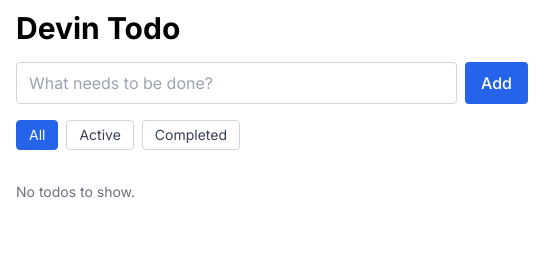
Test: Todo app › filters todos
Type "active task" into the field named "New todo" at (236, 83), box [16, 62, 457, 104]
Click the button "Add" at (496, 83), box [465, 62, 528, 104]
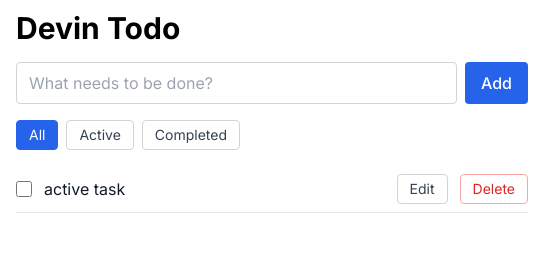
Type "done task" into the field named "New todo" at (236, 83), box [16, 62, 457, 104]
Click the button "Add" at (496, 83), box [465, 62, 528, 104]
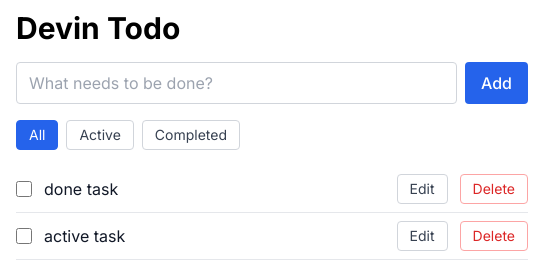
Click the checkbox named "Toggle done task" at (24, 189), box [16, 181, 32, 197]
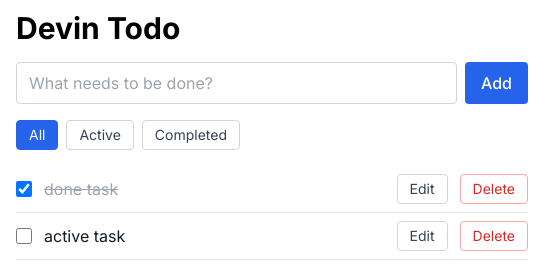
Click the button "Active" at (100, 135), box [66, 120, 134, 150]
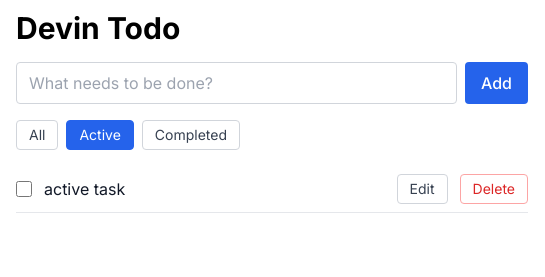
Now the text "active task" is shown, box [44, 179, 125, 199]
Now the number of list items is 1, box [16, 166, 528, 213]
Click the button "Completed" at (191, 135), box [142, 120, 240, 150]
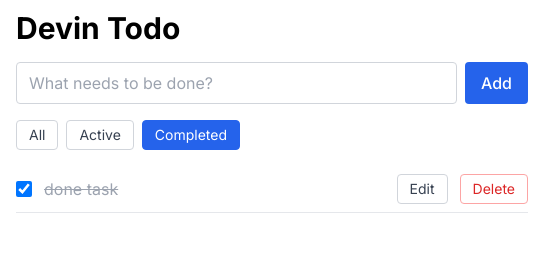
Now the number of list items is 1, box [16, 166, 528, 213]
Now the text "done task" is shown, box [44, 179, 118, 199]
Click the button "All" at (37, 135), box [16, 120, 58, 150]
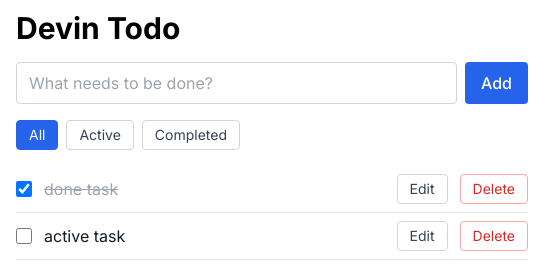
Now the number of list items is 2, box [16, 166, 528, 213]; [16, 213, 528, 260]
